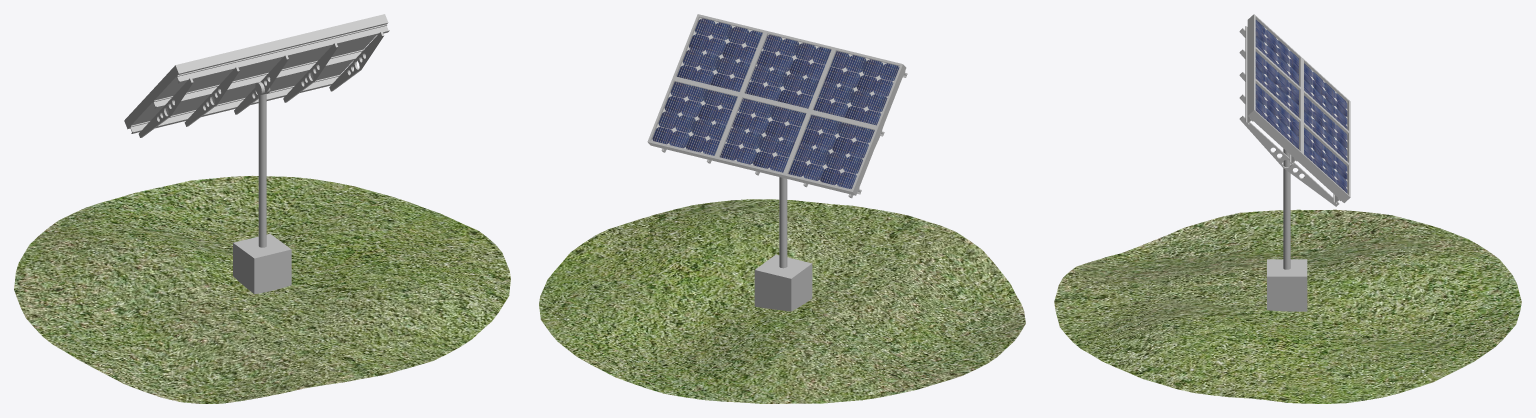
File: SolarPanel-transformed.glb
3 renders of one model, left to right at view 1: azimuth 30°, elevation 25°; view 2: azimuth 150°, elevation 25°; view 3: azimuth 270°, elevation 25°, orthographic. The views are drawn at different scales.
Parts seen in each view (by area): view 1: Circle001_grass_0, Box001, Cylinder001_alluminium_0; view 2: Circle001_grass_0, Box001, Cylinder001_alluminium_0; view 3: Circle001_grass_0, Box001, Cylinder001_alluminium_0.
Part boxes in pixels (x1,y1,x2,y2): Circle001_grass_0: (14, 175, 510, 403); Box001: (124, 14, 389, 137); Cylinder001_alluminium_0: (233, 94, 291, 294); Circle001_grass_0: (539, 199, 1025, 403); Box001: (647, 14, 907, 198); Cylinder001_alluminium_0: (754, 177, 812, 311); Circle001_grass_0: (1054, 209, 1521, 403); Box001: (1239, 14, 1350, 206); Cylinder001_alluminium_0: (1267, 148, 1307, 311).
Bounding box in the file's own units: 1028 × 633 × 1028.
3 materials, 2 textured.
